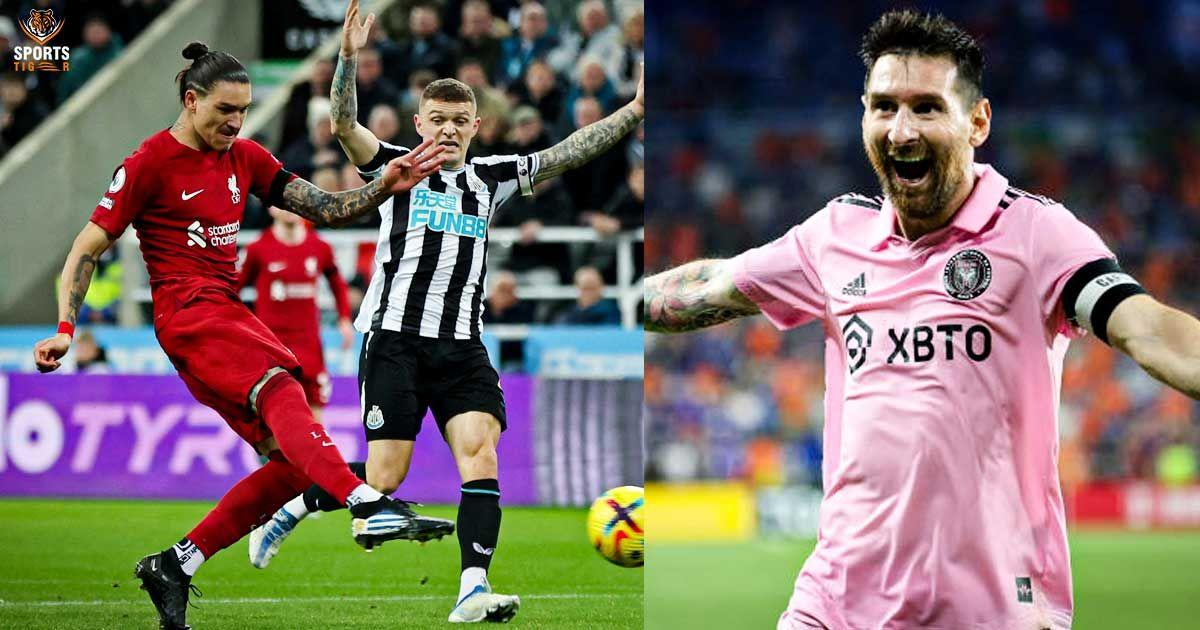ballon_football: (587, 486, 644, 569)
